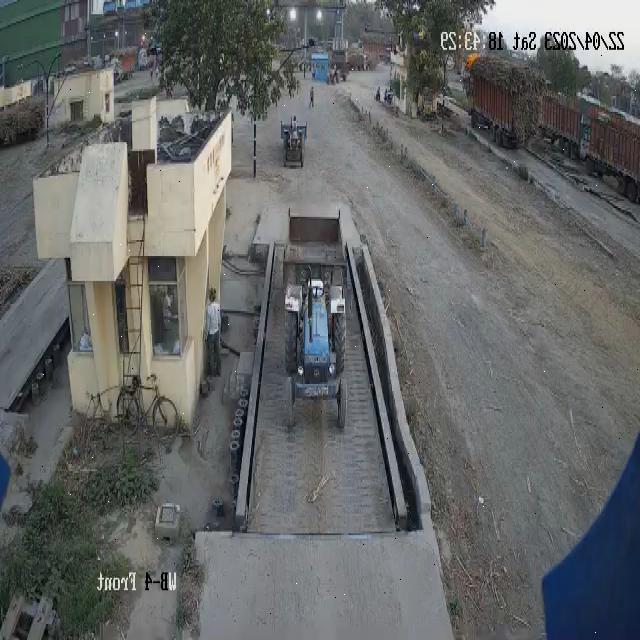Tratores - v5 YOLO V8L 2024-11-13: (280, 265, 352, 433), (280, 115, 308, 171)
